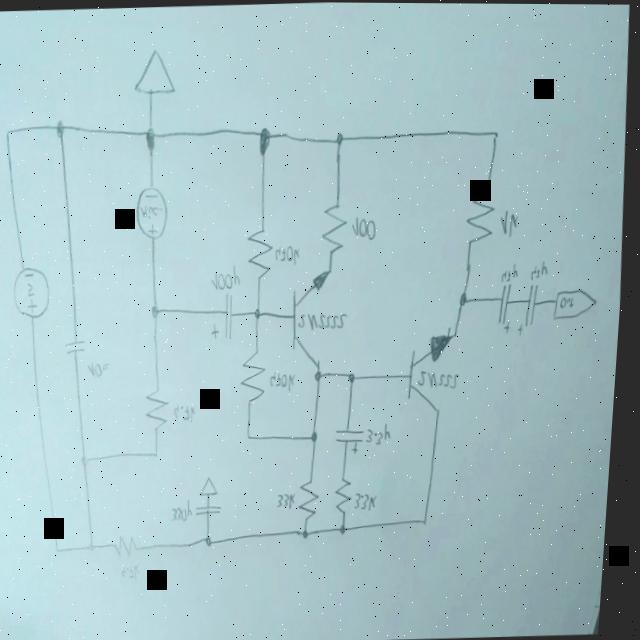capacitor: (518, 282, 544, 337), (213, 292, 240, 342), (498, 281, 519, 336), (339, 426, 371, 457), (68, 336, 92, 359), (201, 504, 229, 519)
ground: (131, 47, 179, 100), (204, 476, 226, 498)
junction: (256, 126, 274, 159), (143, 125, 159, 154), (490, 126, 503, 144), (55, 119, 66, 139), (344, 521, 355, 539), (335, 132, 347, 148), (255, 306, 266, 323), (314, 429, 325, 446), (153, 304, 164, 321), (306, 526, 317, 543), (209, 533, 220, 549), (318, 368, 327, 385), (462, 291, 472, 306), (351, 370, 361, 385), (85, 453, 94, 468), (157, 450, 164, 462), (427, 517, 434, 529), (61, 544, 68, 556), (251, 431, 257, 443), (6, 128, 12, 140), (96, 542, 102, 554)
resistor: (465, 187, 500, 246), (246, 226, 278, 283), (321, 202, 353, 257), (243, 351, 273, 406), (148, 389, 176, 431), (302, 477, 328, 522), (339, 474, 360, 515), (119, 532, 147, 561)
source: (14, 264, 57, 321)
terminal: (554, 286, 602, 323)
text: (300, 310, 353, 334), (420, 368, 466, 392), (213, 265, 245, 293), (351, 214, 381, 243), (369, 420, 398, 447), (500, 207, 522, 238), (176, 497, 201, 524), (272, 370, 301, 393), (276, 243, 305, 266), (358, 490, 385, 513), (176, 401, 203, 424), (89, 359, 115, 380), (126, 561, 148, 583), (281, 490, 303, 511), (502, 261, 522, 284), (141, 204, 165, 223), (532, 259, 552, 281), (563, 295, 580, 310), (29, 283, 39, 299)
transistor: (409, 325, 467, 417), (290, 268, 340, 370)
